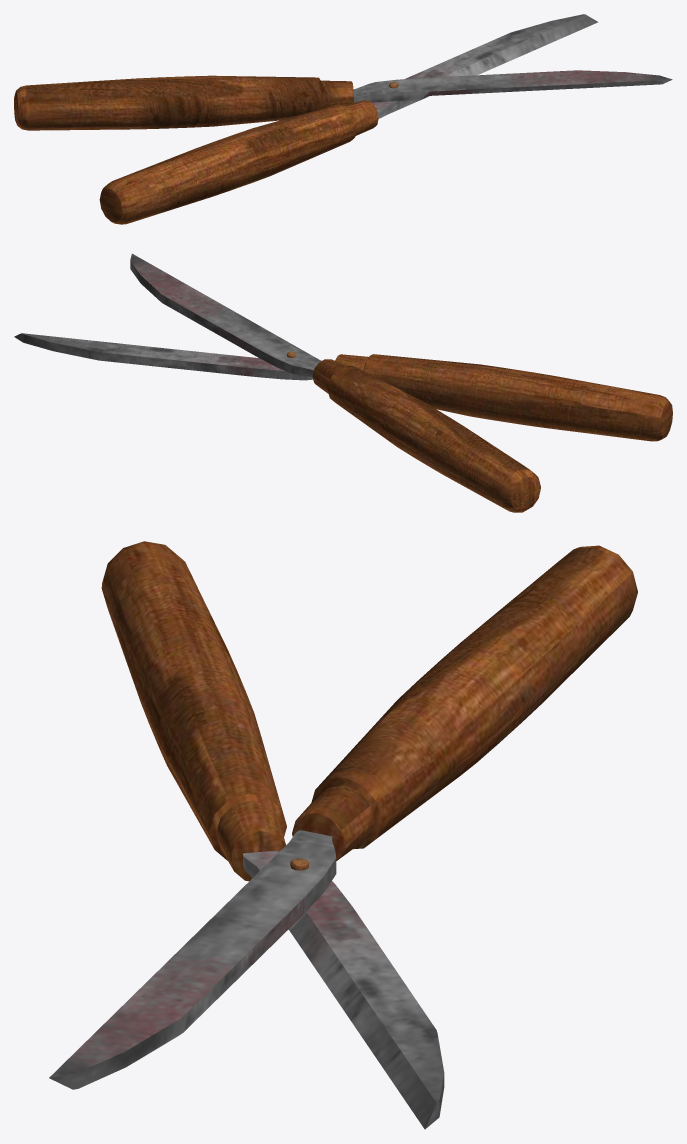
Rendered from shears.fbx.
3 views of the same model, one above another, from view 1: azimuth 30°, elevation 25°; view 2: azimuth 150°, elevation 25°; view 3: azimuth 270°, elevation 25° (orthographic). The views are drawn at different scales.
Parts seen in each view (by area): view 1: Shears, Plane.001; view 2: Shears, Plane.001; view 3: Shears, Plane.001.
Part boxes in pixels (box(x1,y1,x2,y2)): Shears: box(14, 75, 378, 224); Plane.001: box(353, 14, 672, 118); Shears: box(312, 354, 672, 512); Plane.001: box(14, 253, 321, 380); Shears: box(101, 541, 637, 881); Plane.001: box(49, 830, 444, 1129).
Size of the model in its own units: 3941 by 366 by 1791.
Materials: 3 (3 with a texture image).
